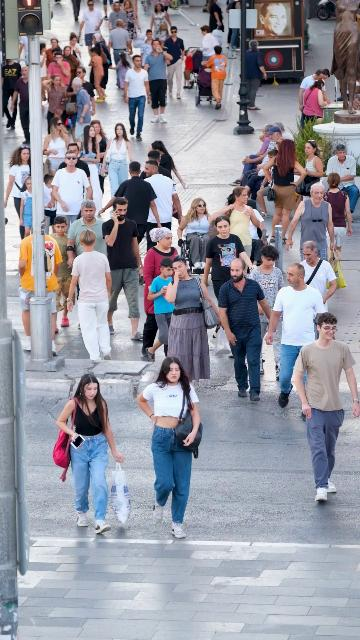person: (294, 312, 360, 504), (136, 356, 201, 539), (55, 373, 125, 535), (265, 263, 329, 409), (217, 258, 272, 402), (165, 255, 222, 384), (101, 197, 145, 341), (17, 218, 62, 357), (66, 228, 112, 361), (98, 161, 162, 255), (248, 245, 285, 382), (263, 139, 308, 245), (141, 227, 177, 359), (203, 215, 254, 300), (286, 182, 335, 263), (210, 185, 262, 259), (51, 150, 93, 231), (147, 258, 177, 363), (144, 160, 183, 234), (4, 146, 34, 240), (296, 240, 338, 305), (229, 124, 272, 187), (177, 197, 213, 272), (326, 143, 359, 224), (323, 173, 353, 258), (65, 199, 107, 259), (143, 40, 173, 124), (101, 123, 134, 198), (124, 55, 151, 141), (52, 215, 72, 327), (151, 140, 189, 192), (78, 125, 101, 207), (296, 140, 325, 203), (298, 68, 331, 123), (67, 66, 96, 128), (255, 149, 280, 220), (43, 117, 72, 178), (107, 19, 134, 83), (41, 74, 69, 133), (163, 26, 185, 99), (68, 77, 92, 143), (300, 78, 332, 127), (55, 143, 91, 186), (204, 45, 227, 110), (246, 40, 267, 111), (1, 61, 22, 130), (257, 127, 284, 180), (90, 120, 109, 194), (78, 0, 104, 49), (89, 34, 112, 89), (109, 53, 133, 105), (121, 0, 141, 52), (192, 25, 220, 62), (18, 175, 34, 239), (41, 174, 57, 235), (149, 3, 171, 47), (89, 47, 106, 103), (47, 51, 71, 87), (144, 150, 173, 179), (133, 29, 154, 68), (62, 46, 81, 79), (107, 1, 126, 32), (206, 0, 224, 32), (183, 48, 197, 89), (67, 33, 83, 66), (46, 37, 63, 60), (273, 122, 294, 140), (40, 43, 48, 81), (102, 0, 111, 21)
